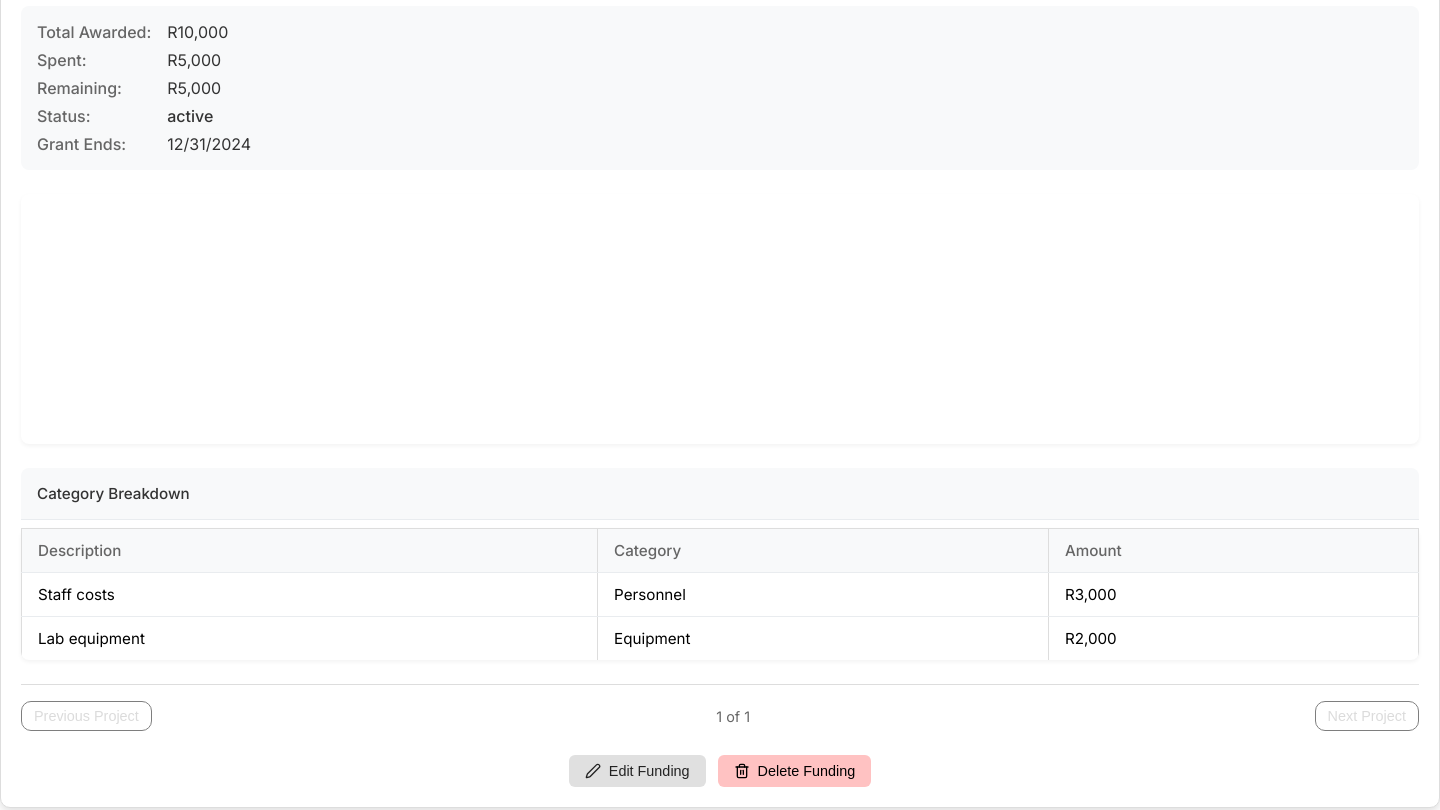
Test case: FundingWidget › handles category management correctly
(page scrolled)
Click the button "Edit Funding" at (637, 771), box x1=569 y1=755 x2=706 y2=787
(page scrolled)
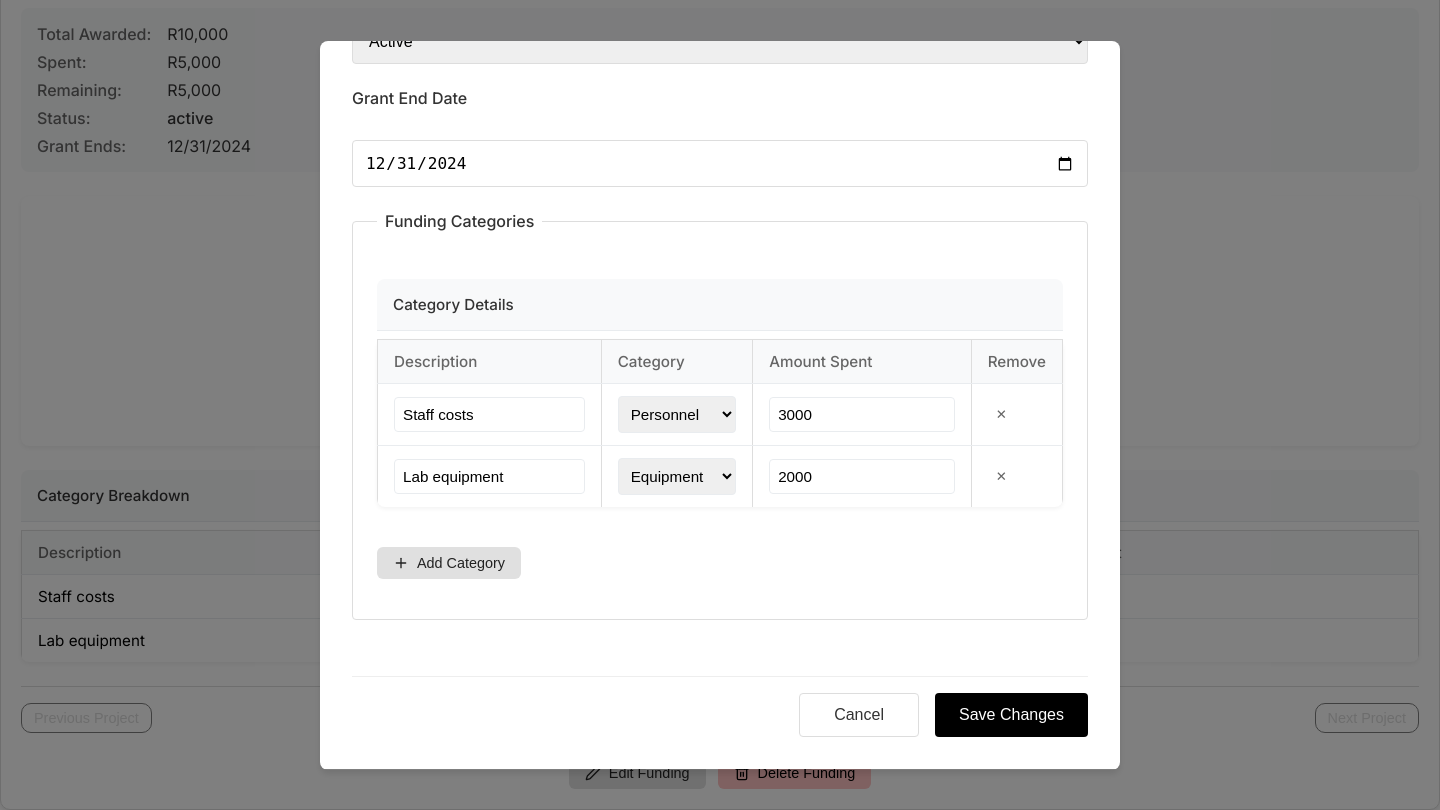
# Wait for the form to be fully loaded and find the add category button
Click the button "Add Category" at (449, 563), box x1=377 y1=547 x2=521 y2=579
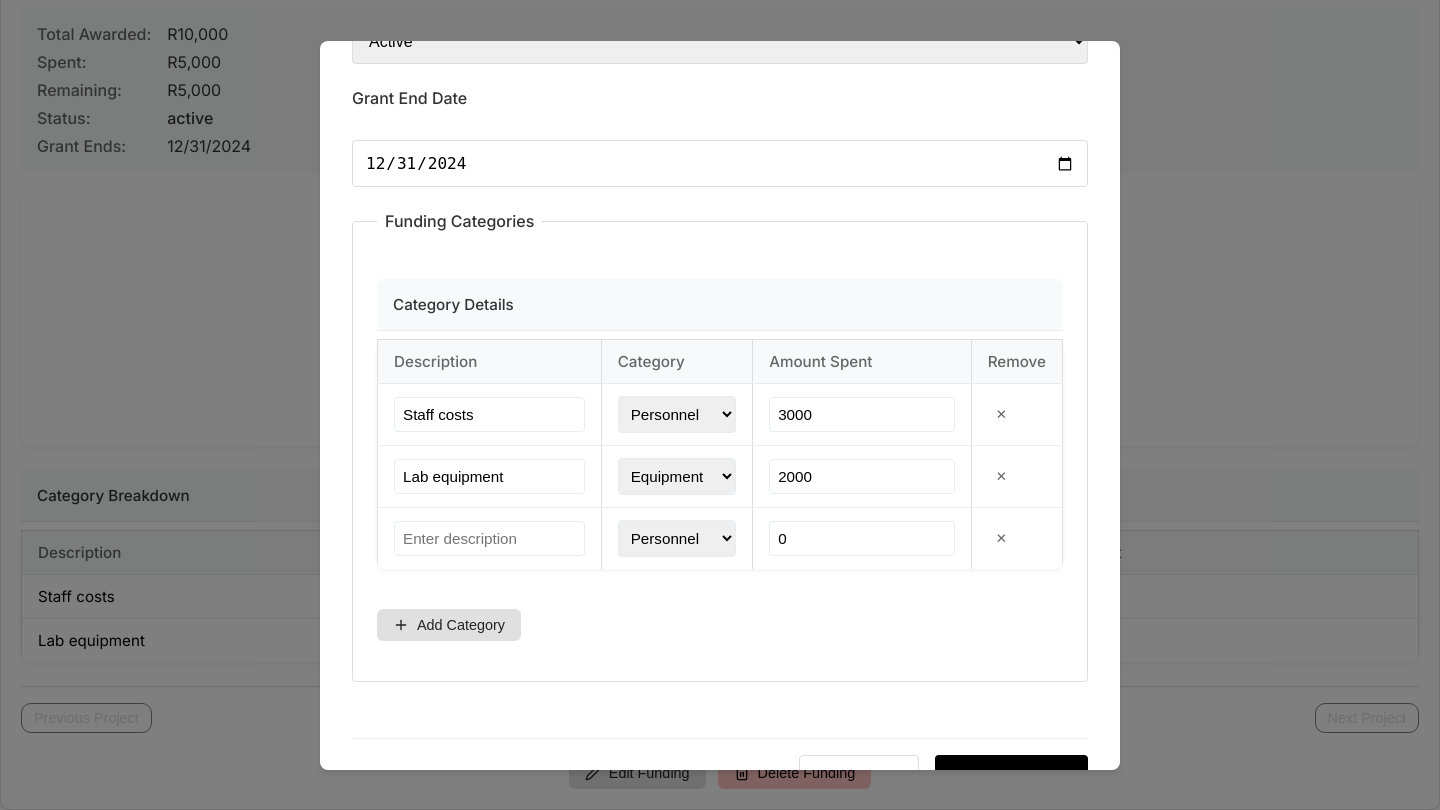
Expected: the 4th dropdown shows "Personnel", x1=618 y1=520 x2=736 y2=557
